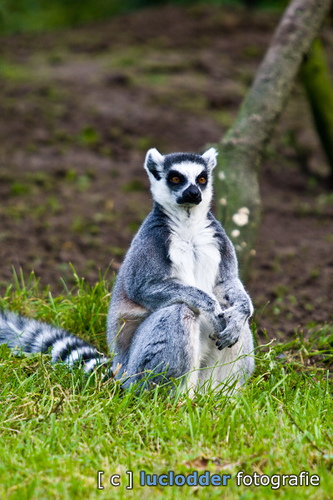cat: (0, 142, 266, 408)
